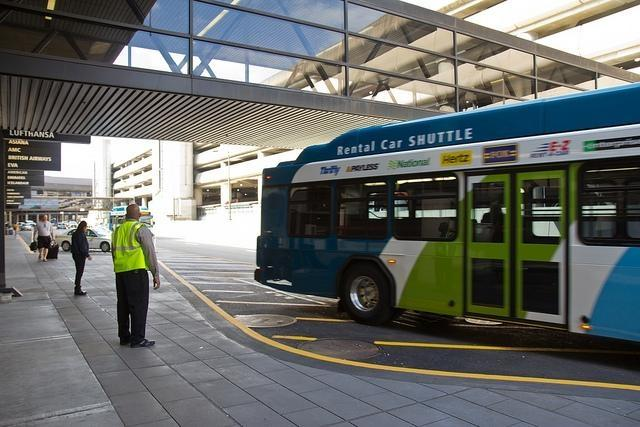bus: (255, 80, 640, 340), (108, 206, 153, 233)
car: (56, 227, 111, 252), (26, 220, 38, 227), (21, 224, 31, 231), (56, 222, 66, 229)
